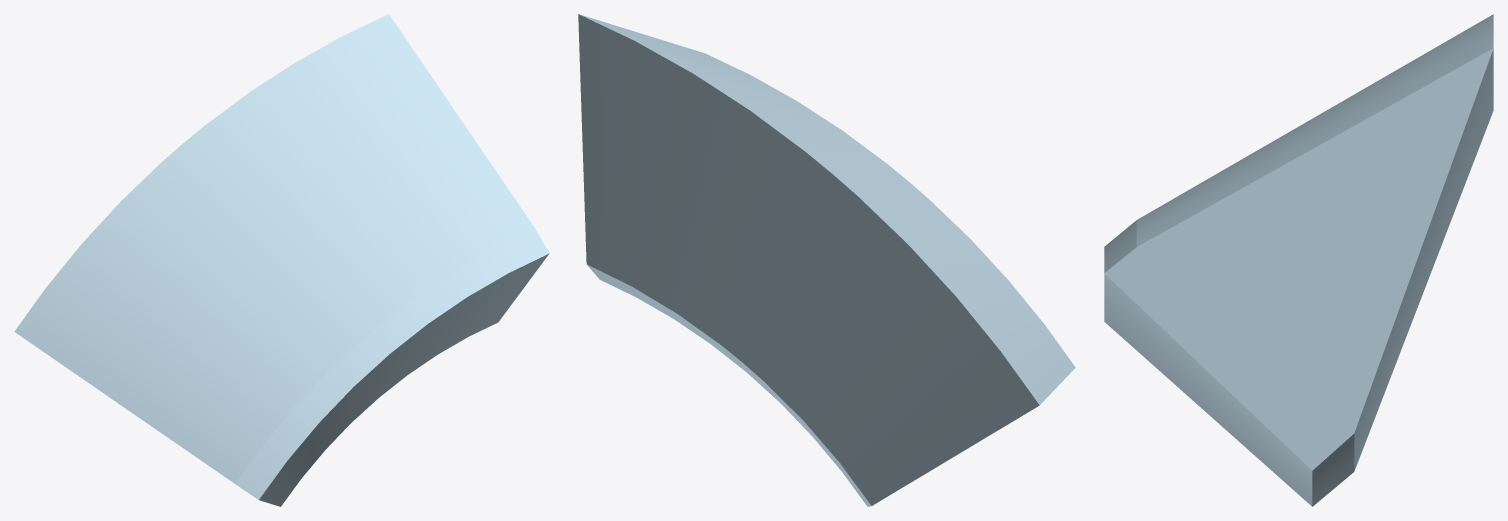
Rendered from Sub_3_Cell_3_2.gltf.
3 views of the same model, side by side, from view 1: azimuth 30°, elevation 25°; view 2: azimuth 150°, elevation 25°; view 3: azimuth 270°, elevation 25° (orthographic). The views are drawn at different scales.
Parts seen in each view (by area): view 1: Sub_3_Cell_3_2; view 2: Sub_3_Cell_3_2; view 3: Sub_3_Cell_3_2.
Boxes of the visible parts, x1,y1,x2,y2 form: Sub_3_Cell_3_2: (14,14,549,506); Sub_3_Cell_3_2: (578,14,1075,506); Sub_3_Cell_3_2: (1104,14,1493,506).
Bounding box in the file's own units: 0.0871 × 0.08 × 0.0488.
